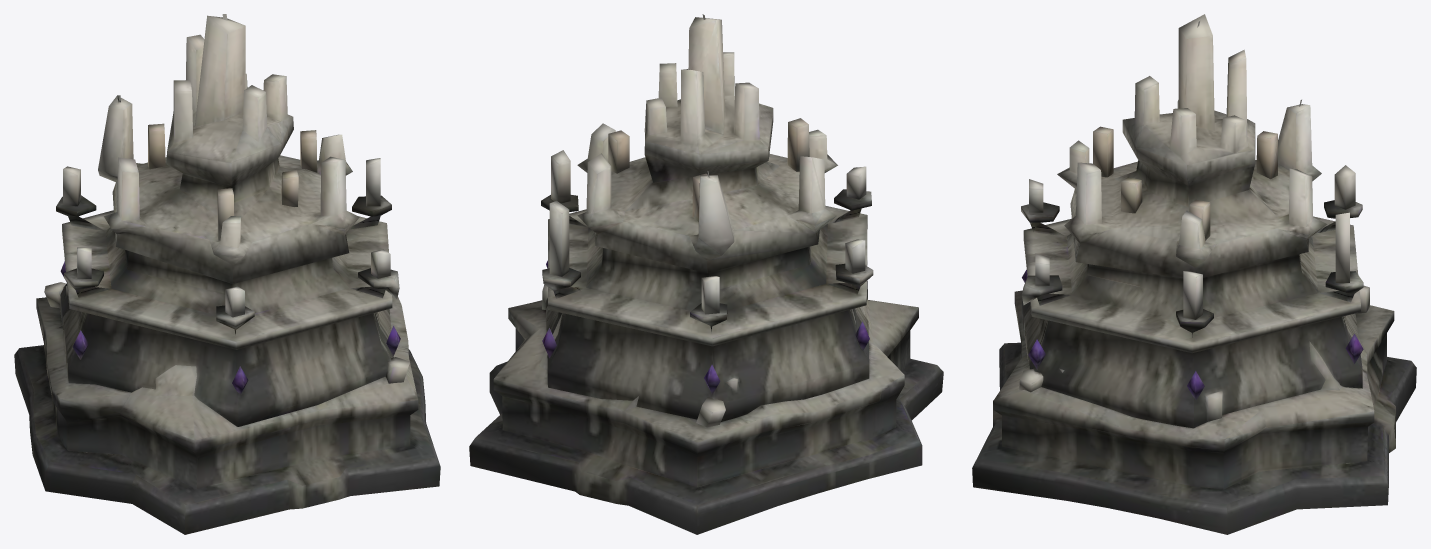
File: candles.glb
3 renders of one model, left to right at view 1: azimuth 30°, elevation 25°; view 2: azimuth 150°, elevation 25°; view 3: azimuth 270°, elevation 25°, orthographic.
Visible parts, largest first — view 1: tripo_node_c3b9a99c-8e25-49e8-aee6-32a8de6b143b; view 2: tripo_node_c3b9a99c-8e25-49e8-aee6-32a8de6b143b; view 3: tripo_node_c3b9a99c-8e25-49e8-aee6-32a8de6b143b.
Boxes of the visible parts, x1,y1,x2,y2 form: tripo_node_c3b9a99c-8e25-49e8-aee6-32a8de6b143b: (14, 14, 440, 534); tripo_node_c3b9a99c-8e25-49e8-aee6-32a8de6b143b: (469, 14, 943, 534); tripo_node_c3b9a99c-8e25-49e8-aee6-32a8de6b143b: (972, 14, 1416, 534).
Size of the model in its own units: 0.998 by 0.9941 by 0.9628.
1 material, 1 textured.
